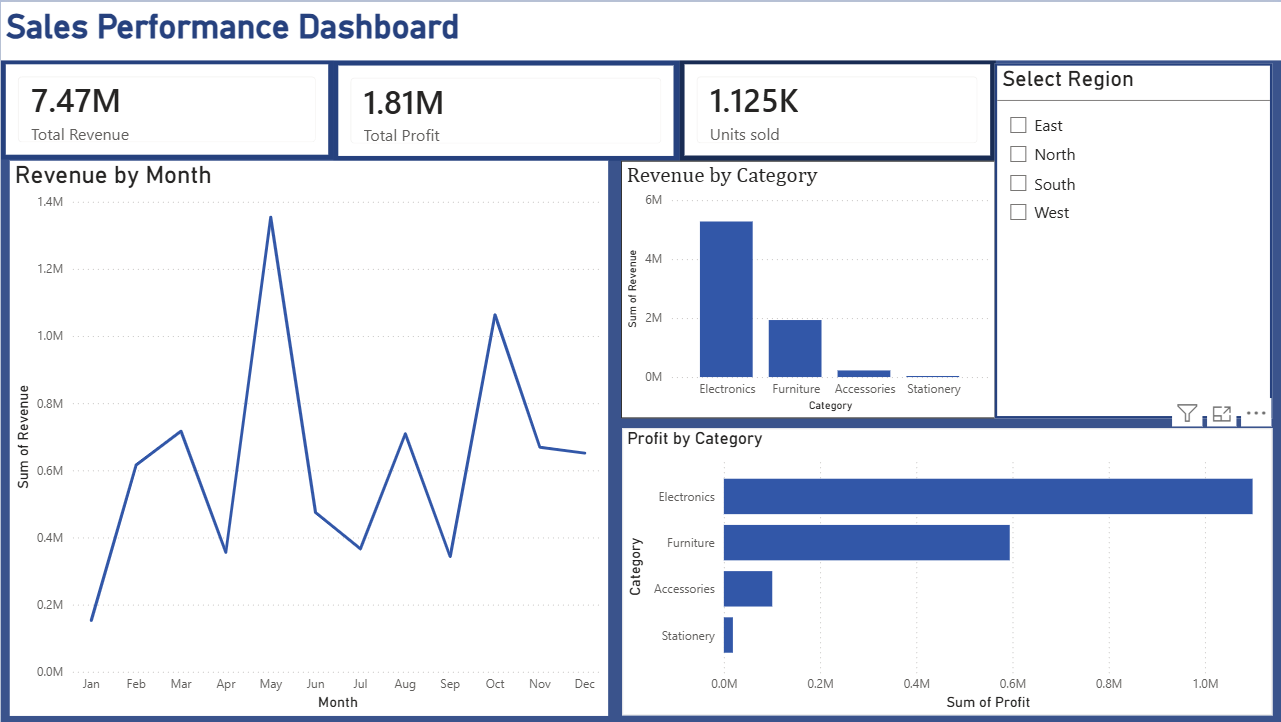

This screenshot's page, from the dashboard's own definition file:
{"tool":"powerbi","page":{"name":"Sales Performance Dashboard","canvas":[1280,720],"ordinal":0},"visuals":[{"type":"cardVisual","fields":{"Data":["SalesDataTable.Total Revenue"]},"box":[0,57.1,332.9,100],"z":0},{"type":"cardVisual","fields":{"Data":["SalesDataTable.Total Profit"]},"box":[332.9,58.6,345.7,100],"z":1000},{"type":"cardVisual","fields":{"Data":["SalesDataTable.Units sold"]},"box":[678.6,57.1,315.7,101.4],"z":2000},{"type":"clusteredColumnChart","title":"Revenue by Category","fields":{"Category":["SalesDataTable.Category"],"Y":["Sum(SalesDataTable.Revenue)"]},"box":[620,158.8,374.4,257.5],"z":3000},{"type":"lineChart","title":"Revenue by Month","fields":{"Category":["SalesDataTable.Month"],"Y":["Sum(SalesDataTable.Revenue)"]},"box":[8.1,158.8,598.1,555],"z":4000},{"type":"slicer","title":"Select Region ","fields":{"Values":["SalesDataTable.Region"]},"box":[993.8,61.2,277.5,355],"z":5000},{"type":"clusteredBarChart","title":"Profit by Category","fields":{"Category":["SalesDataTable.Category"],"Y":["Sum(SalesDataTable.Profit)"]},"box":[621.2,426.2,650,287.5],"z":6000},{"type":"textbox","box":[0,0,1280,58.6],"z":7000}]}

Visuals, with their boxes in screenshot pixels (x1, y1, x2, y2), scaled from the page's 1280x720 canvas onto the 1281x722 screenshot:
cardVisual - SalesDataTable.Total Revenue: x1=0 y1=57 x2=333 y2=158
cardVisual - SalesDataTable.Total Profit: x1=333 y1=59 x2=679 y2=159
cardVisual - SalesDataTable.Units sold: x1=679 y1=57 x2=995 y2=159
"Revenue by Category" clusteredColumnChart: x1=620 y1=159 x2=995 y2=417
"Revenue by Month" lineChart: x1=8 y1=159 x2=607 y2=716
"Select Region " slicer: x1=995 y1=61 x2=1272 y2=417
"Profit by Category" clusteredBarChart: x1=622 y1=427 x2=1272 y2=716
textbox: x1=0 y1=0 x2=1280 y2=59
